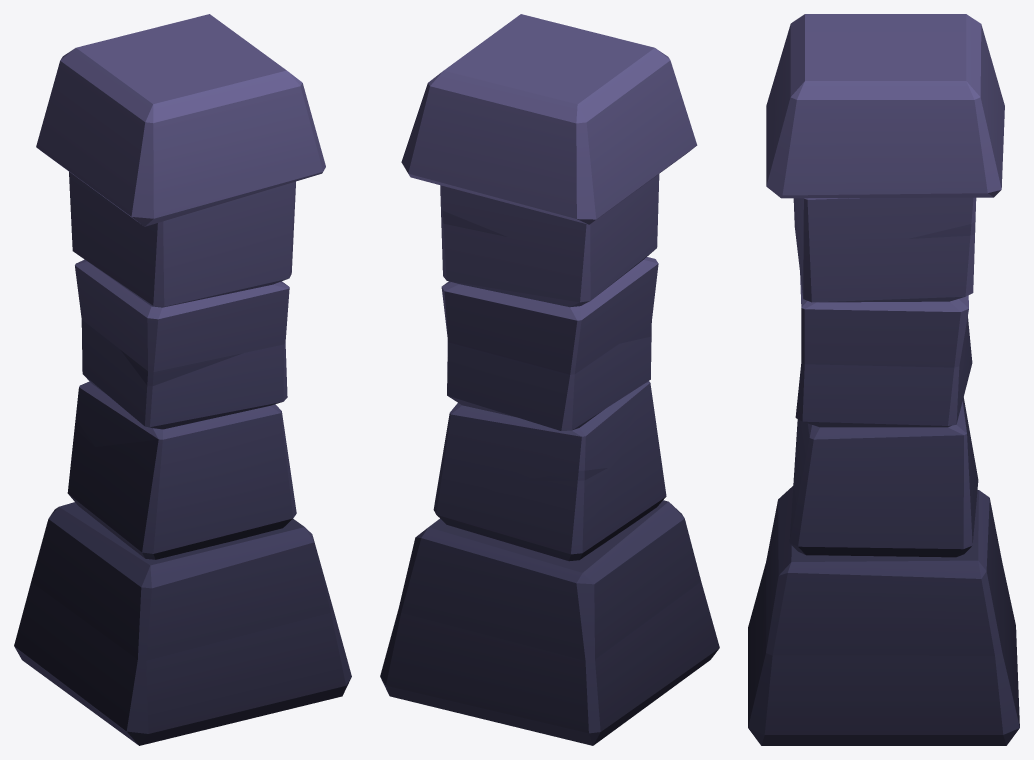
File: column_1.glb
The picture shows the model from 3 angles, left to right: view 1: azimuth 30°, elevation 25°; view 2: azimuth 150°, elevation 25°; view 3: azimuth 270°, elevation 25°; orthographic projection. The views are drawn at different scales.
Parts seen in each view (by area): view 1: column_1; view 2: column_1; view 3: column_1.
Part boxes in pixels (x1,y1,x2,y2): column_1: (14,14,351,745); column_1: (380,14,719,745); column_1: (748,14,1019,745).
Bounding box in the file's own units: 2.18 × 5.73 × 2.18.
1 material, 1 textured.
